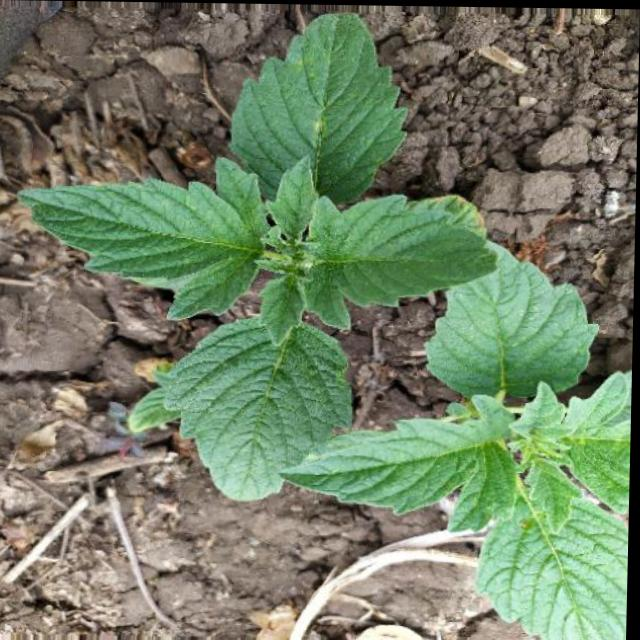crop: (20, 8, 470, 506), (329, 237, 635, 640)
